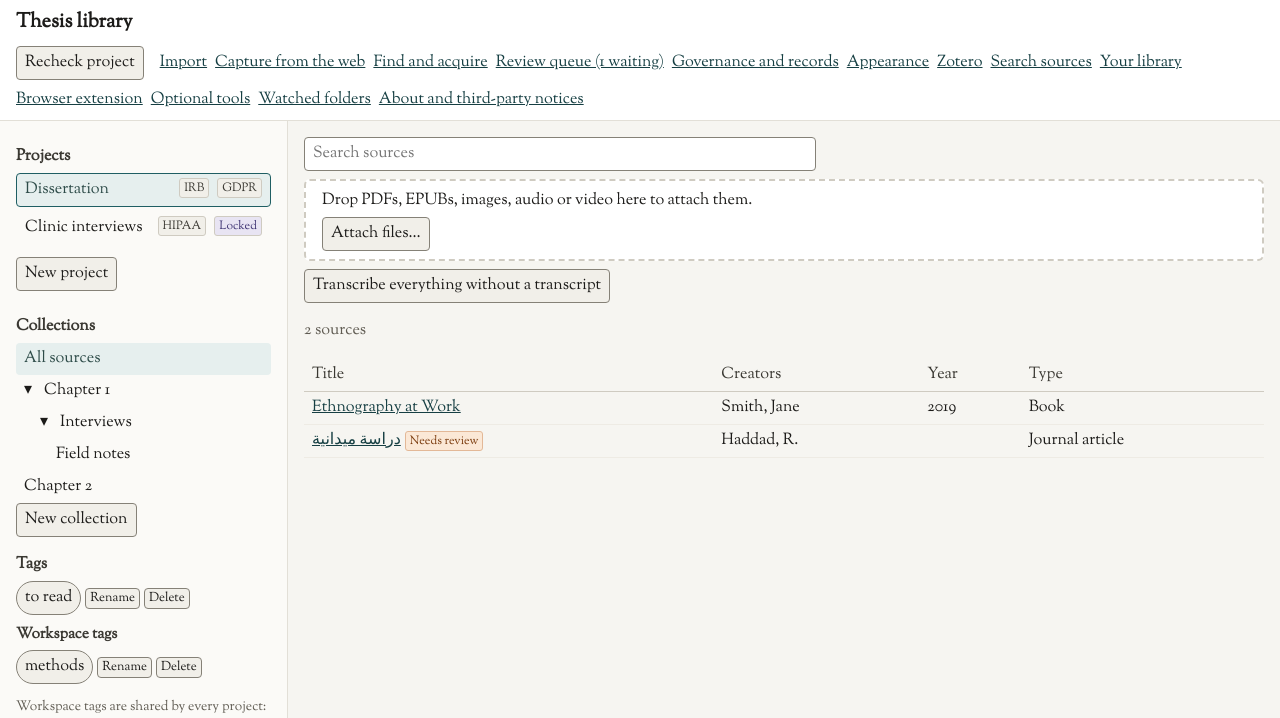
Library screen › Transcribe everything without a transcript is offered above the sources list, and its list reaches the work lines (Task 9)
Click the button "Transcribe everything without a transcript" at [457, 286], box 304,269 -> 610,303
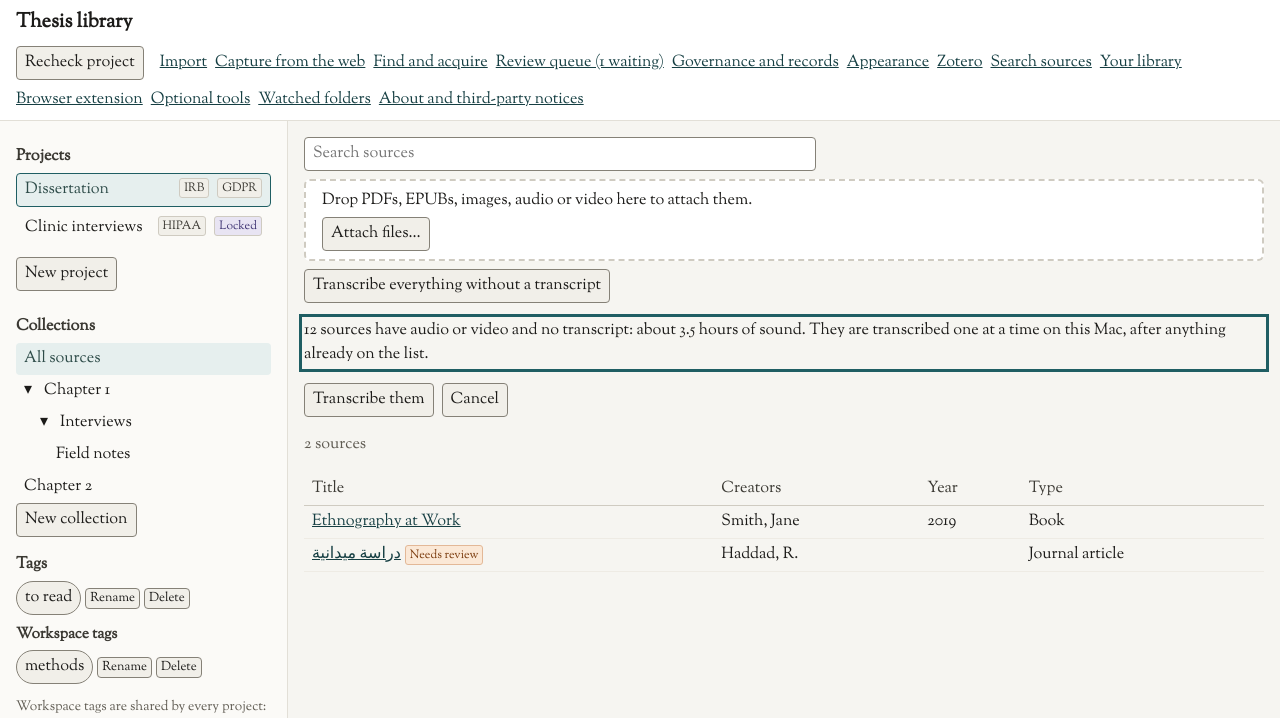
Click the button "Transcribe them" at [369, 400], box 304,383 -> 434,417
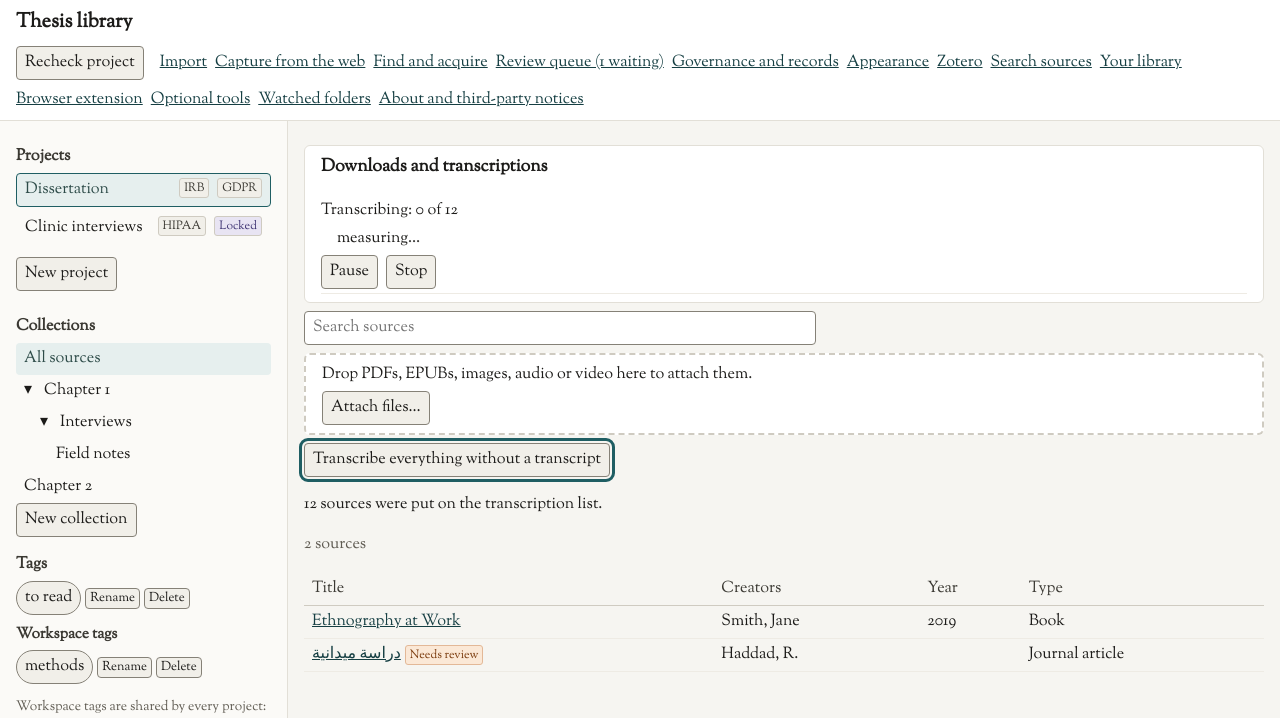
Expected: the text "12 sources were put on the transcription list." is shown, 304,493 -> 602,516
Expected: the text "Transcribing: 0 of 12" is shown, 321,199 -> 458,222
